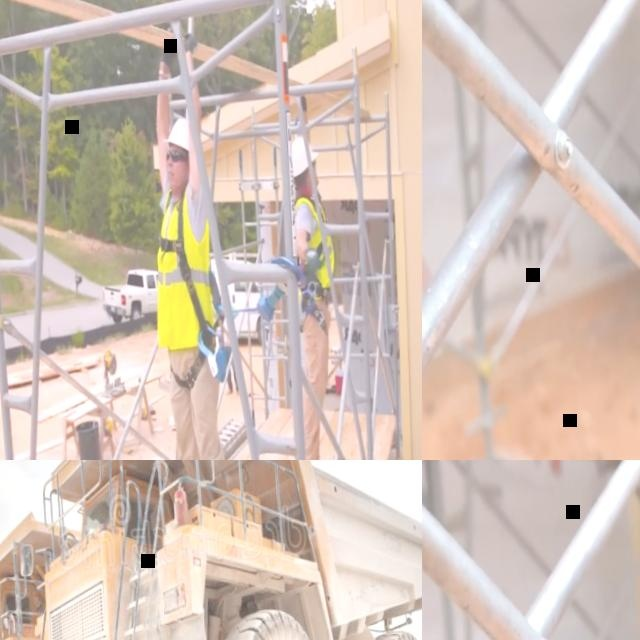Hardhat: (290, 135, 321, 178), (162, 118, 189, 154)
NO-Mask: (166, 165, 185, 192), (314, 169, 319, 186)
Person: (138, 25, 244, 460), (280, 93, 346, 460)
Safety Vest: (147, 190, 216, 353), (293, 194, 337, 301)
machinery: (7, 460, 422, 640), (0, 500, 102, 640)
vehicle: (209, 255, 265, 346), (100, 268, 160, 325)
